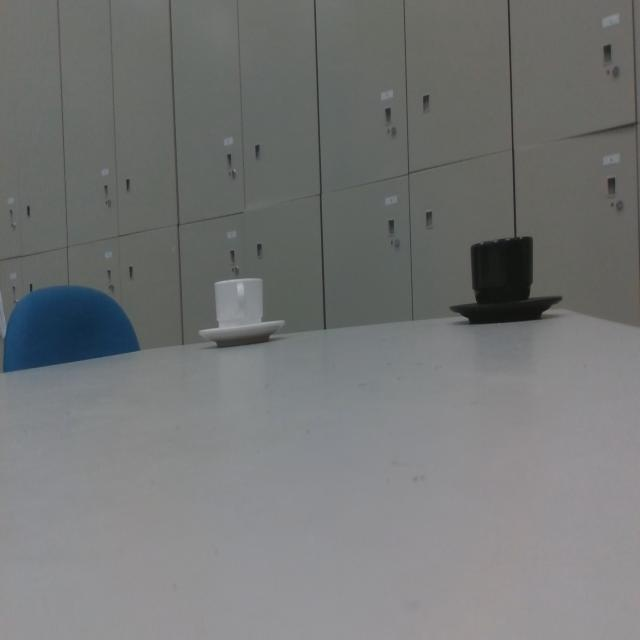black: (446, 225, 564, 332)
white: (193, 264, 289, 352)
